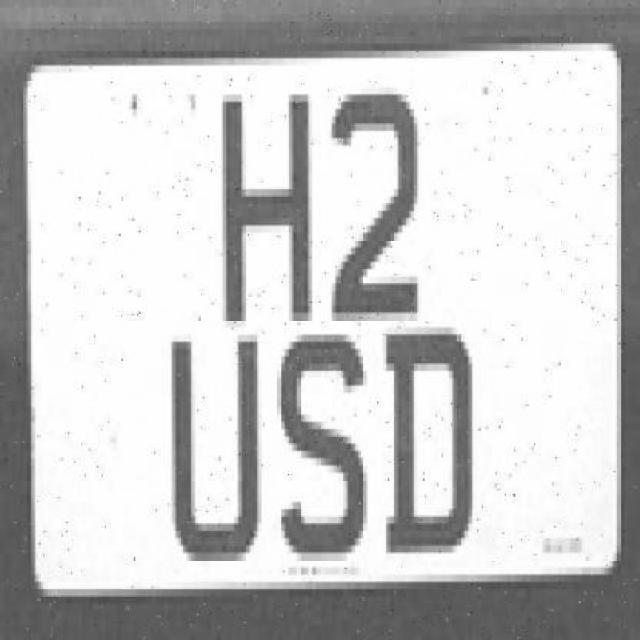licenseplate: (22, 47, 629, 598)
